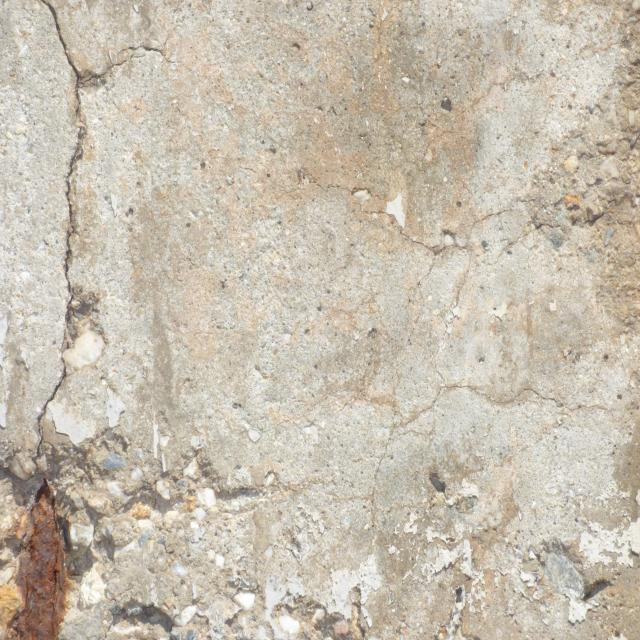corrosion: (0, 471, 87, 640)
